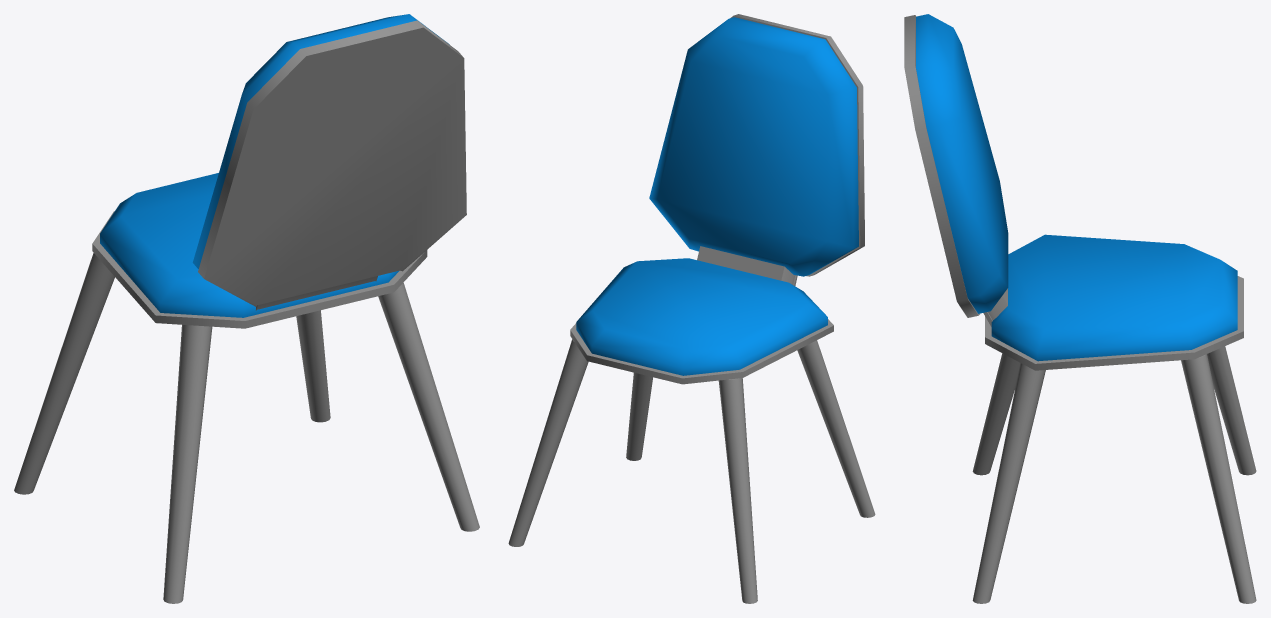
File: Chair.fbx
3 renders of one model, left to right at view 1: azimuth 30°, elevation 25°; view 2: azimuth 150°, elevation 25°; view 3: azimuth 270°, elevation 25°, orthographic. The views are drawn at different scales.
Parts seen in each view (by area): view 1: Chair; view 2: Chair; view 3: Chair.
Part boxes in pixels (left/top/right/bottom): Chair: left=14, top=14, right=479, bottom=603; Chair: left=508, top=14, right=875, bottom=603; Chair: left=904, top=14, right=1256, bottom=603.
Size of the model in its own units: 97.71 by 166 by 106.
